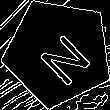N_NW: (26, 21, 90, 84)
